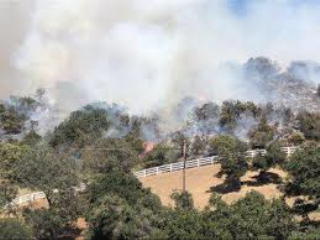fire: (145, 144, 154, 154)
smoke: (10, 8, 310, 130)
